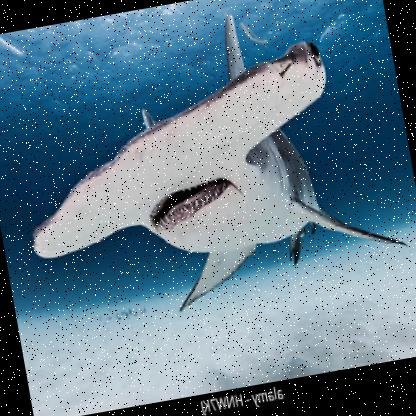hammerhead_Shark: (0, 0, 415, 341)
